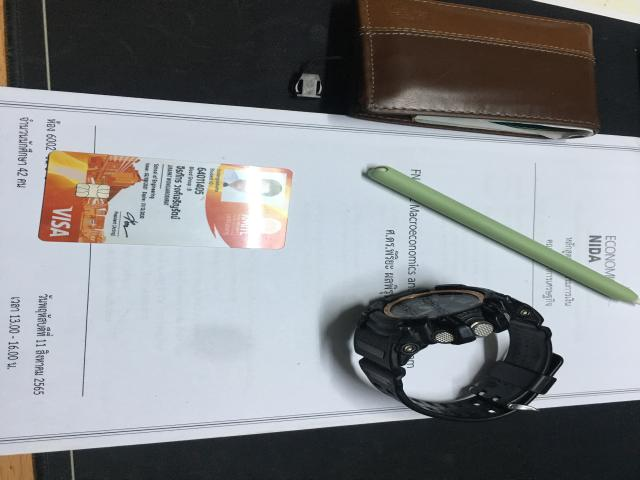Wallet: (350, 0, 600, 139)
Watch: (353, 285, 563, 421)
paper: (0, 88, 638, 454)
